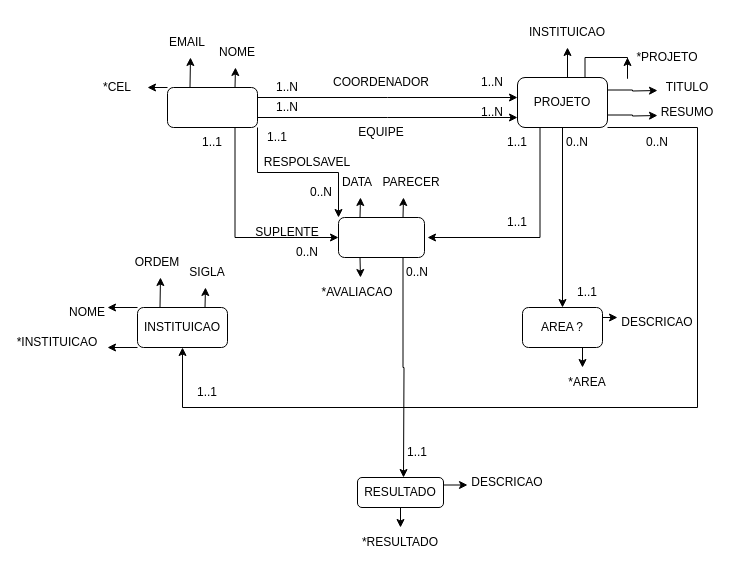
Some shapes in this 735 by 574 pixel diagram are drawn without their labels. The centre of each missing label's shape, as x and y in pixels:
AVALIAÇAO: pixel 381 237
PROFESSOR: pixel 212 107
